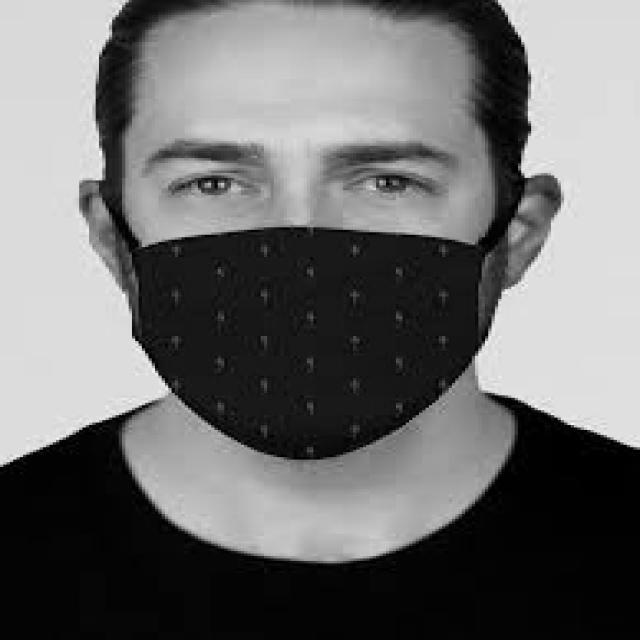fake: (129, 225, 495, 466)
real: (123, 4, 494, 473)
